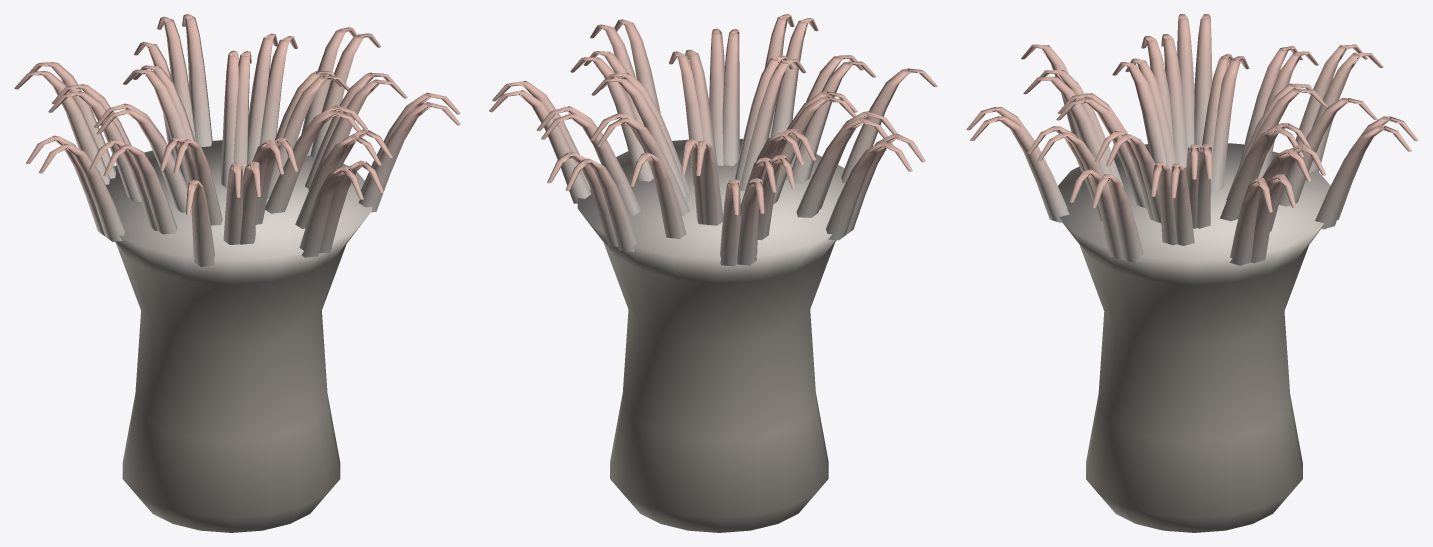
The model's file is anemone.glb.
The picture shows the model from 3 angles, left to right: view 1: azimuth 30°, elevation 25°; view 2: azimuth 150°, elevation 25°; view 3: azimuth 270°, elevation 25°; orthographic projection.
Parts seen in each view (by area): view 1: Anemone; view 2: Anemone; view 3: Anemone.
Part boxes in pixels (left/top/right/bottom): Anemone: left=14, top=14, right=460, bottom=532; Anemone: left=489, top=14, right=937, bottom=532; Anemone: left=966, top=14, right=1418, bottom=532.
Bounding box in the file's own units: 0.3428 × 0.3345 × 0.3493.
